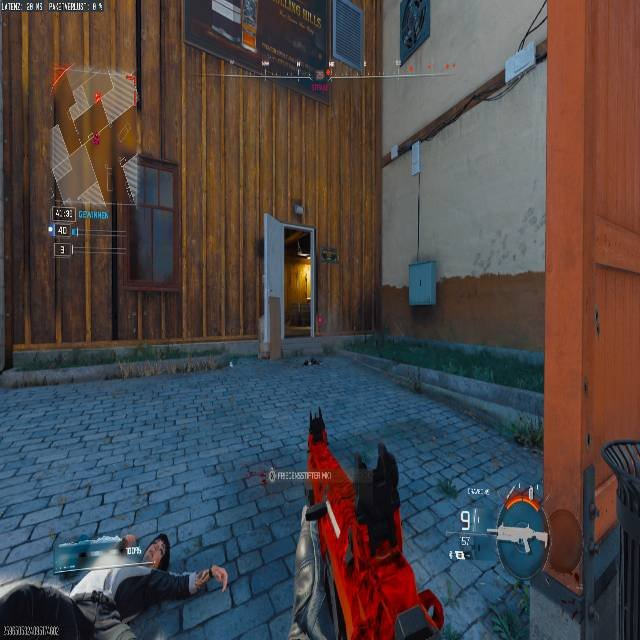head: (0, 582, 90, 639)
